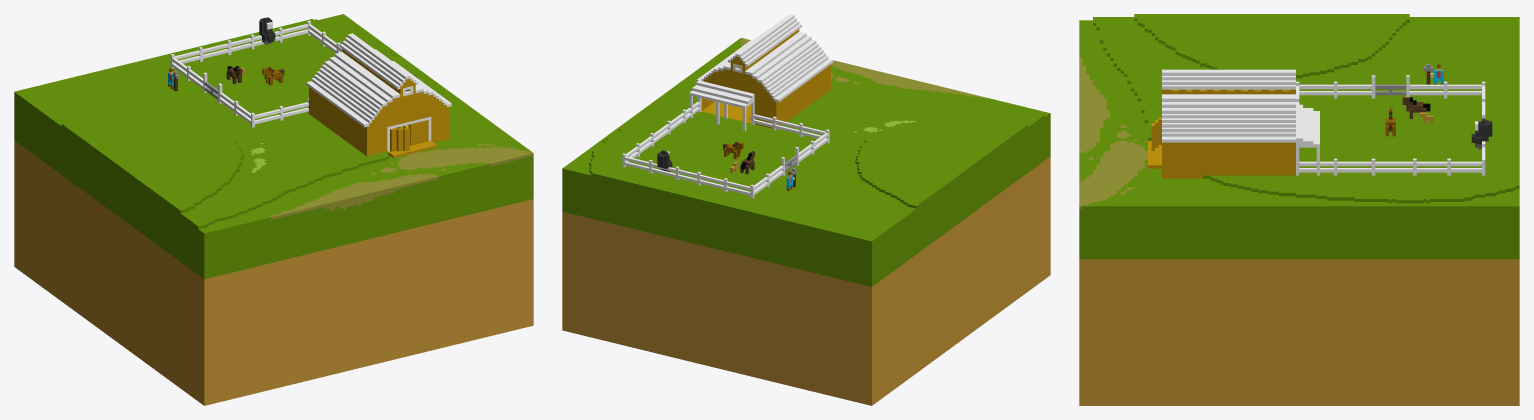
3 renders of one model, left to right at view 1: azimuth 30°, elevation 25°; view 2: azimuth 150°, elevation 25°; view 3: azimuth 270°, elevation 25°, orthographic. The views are drawn at different scales.
Visible parts, largest first — view 1: 4E; view 2: 4E; view 3: 4E.
Boxes of the visible parts, left/top/right/bottom form: 4E: left=14, top=14, right=533, bottom=405; 4E: left=562, top=14, right=1050, bottom=405; 4E: left=1079, top=14, right=1519, bottom=405.
Size of the model in its own units: 12.8 by 9.1 by 12.8.
1 material, 1 textured.
